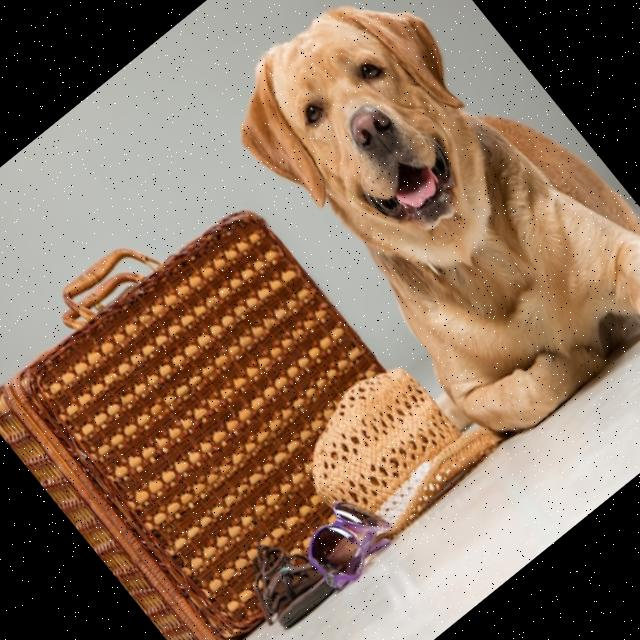Dog: (207, 0, 640, 480)
